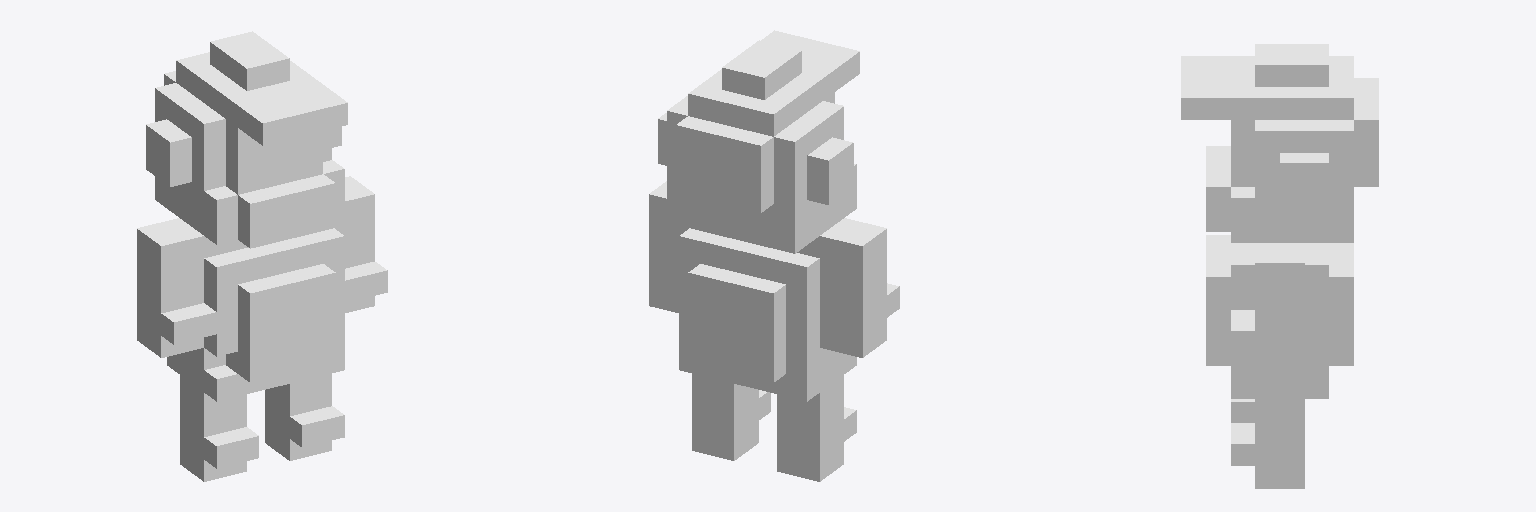
File: Soldier.obj
3 views of the same model, side by side, from view 1: azimuth 30°, elevation 25°; view 2: azimuth 150°, elevation 25°; view 3: azimuth 270°, elevation 25° (orthographic).
Parts seen in each view (by area): view 1: object 1; view 2: object 1; view 3: object 1.
Part boxes in pixels (x1,y1,x2,y2): object 1: (137, 31, 387, 481); object 1: (649, 30, 899, 481); object 1: (1181, 44, 1378, 488).
Bounding box in the file's own units: 1 × 1.8 × 0.8.